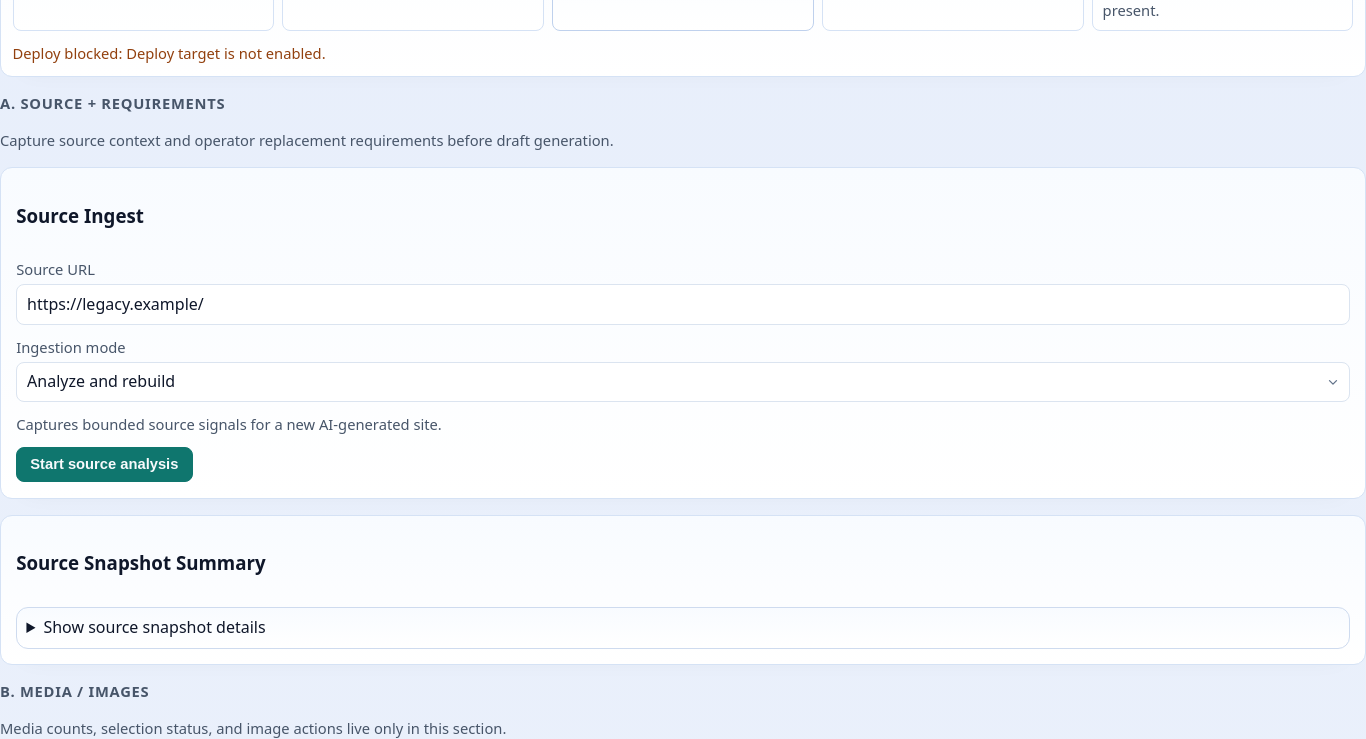
site migration workflow route › requires authorization before queuing a faithful Chromium snapshot
This screenshot has width=1366, height=739.
(page scrolled)
Select "Faithful browser snapshot" in the dropdown labelled "Ingestion mode" at (683, 382), box [16,362,1350,402]
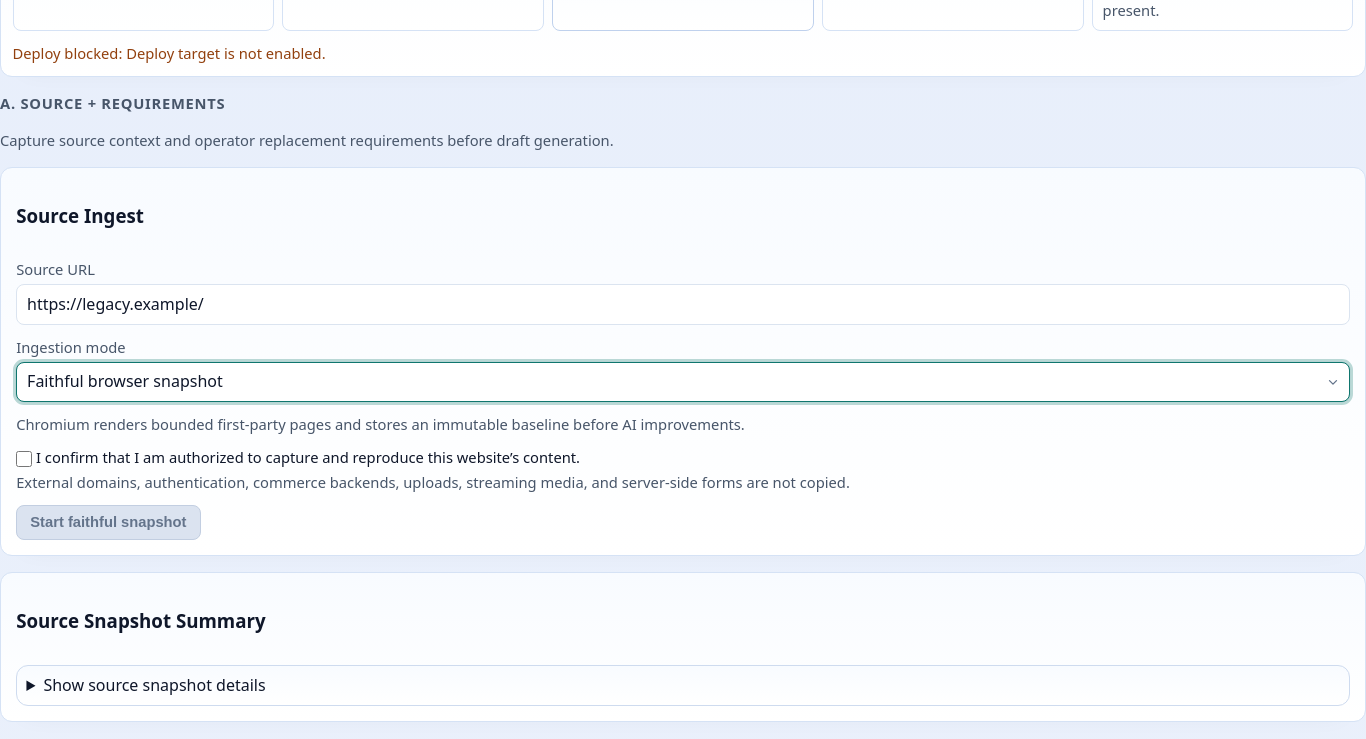
Check: the button "Start faithful snapshot" is disabled, box [16,505,201,540]
Click the checkbox labelled "I confirm that I am authorized to capture and reproduce this website’s content".
click(24, 459)  # box [16,451,32,467]
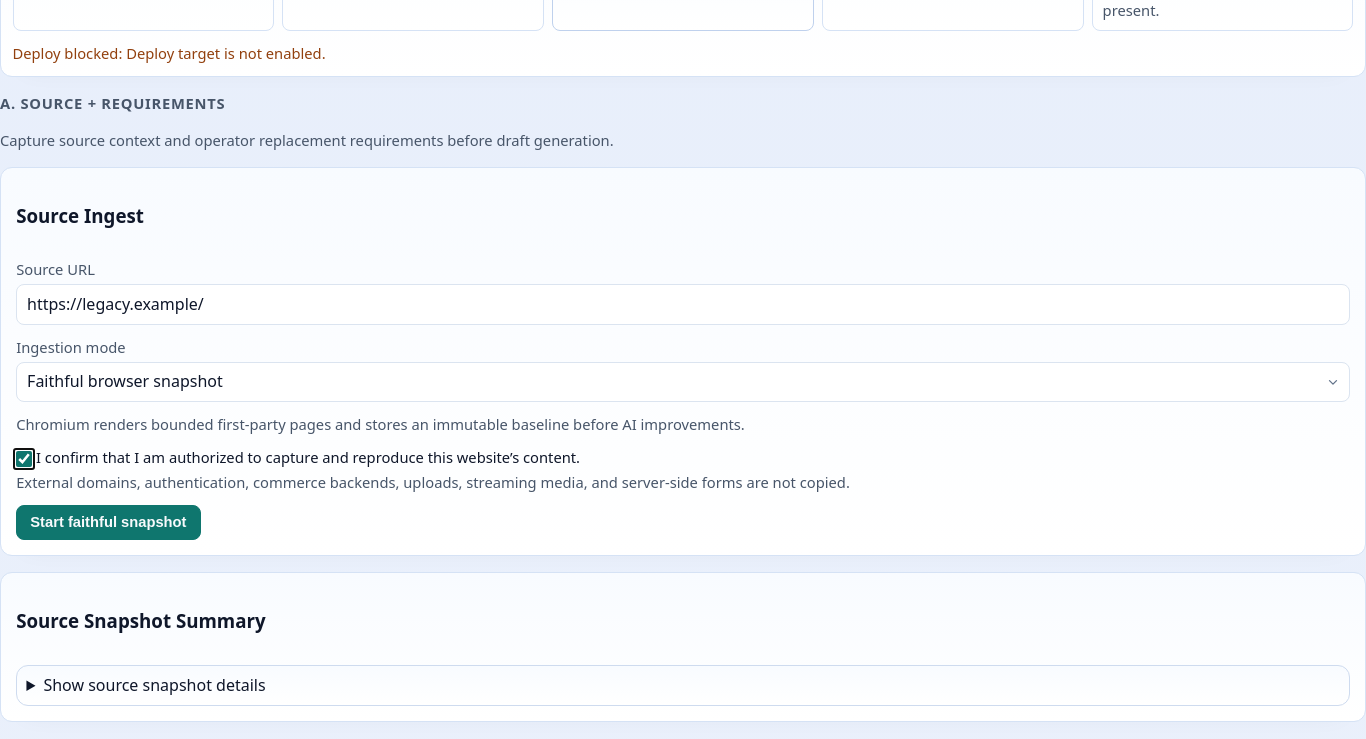
Check: the button "Start faithful snapshot" is enabled
Click the button "Start faithful snapshot".
click(108, 523)  # box [16,505,201,540]
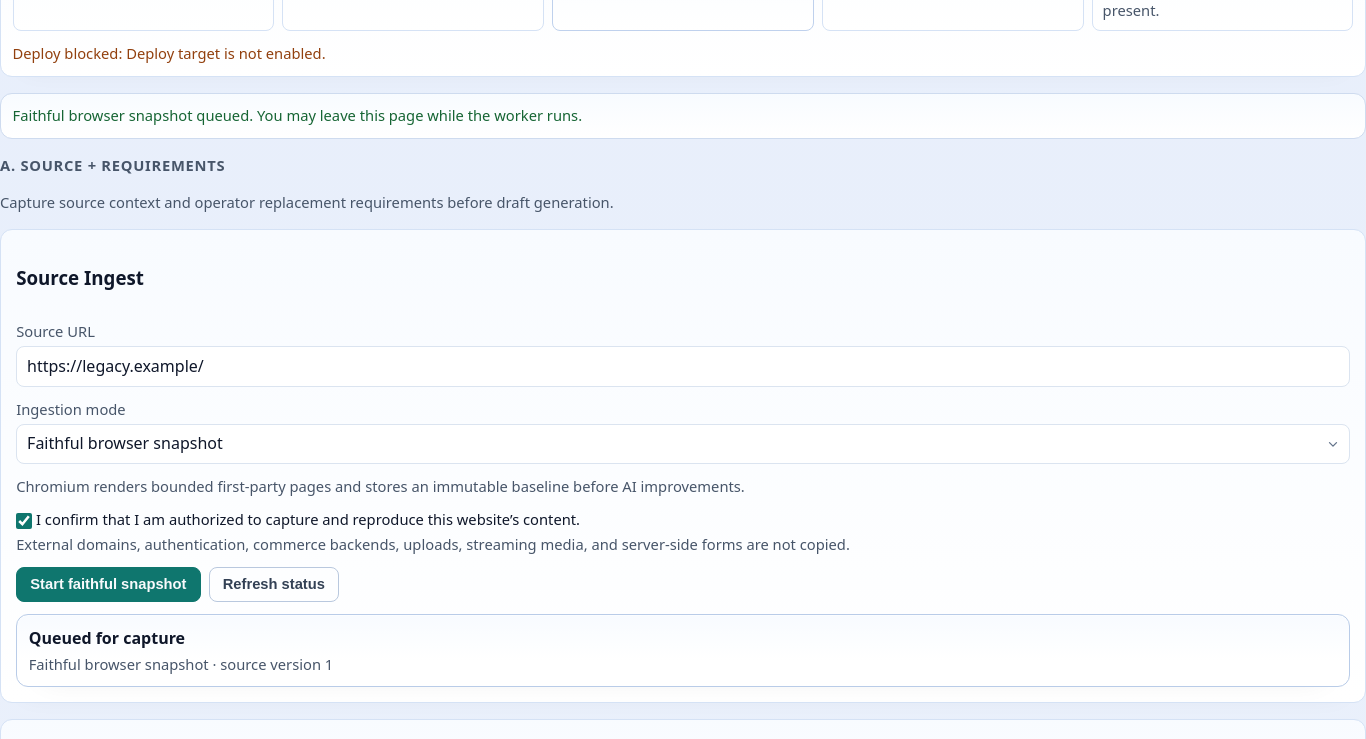
Check: the text "Faithful browser snapshot queued" is shown, box [12,105,582,125]
